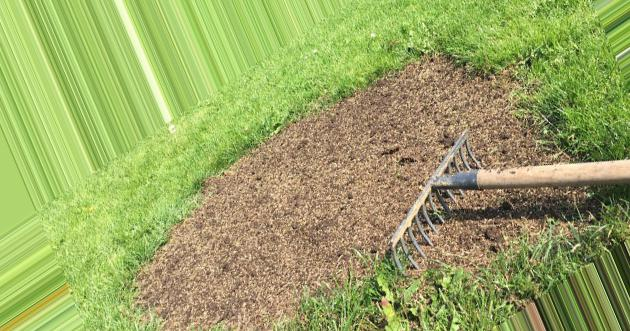patch: (256, 179, 364, 231), (188, 242, 259, 303), (359, 99, 454, 135), (438, 84, 513, 128), (288, 237, 341, 294), (269, 133, 362, 164), (499, 162, 563, 193), (465, 214, 523, 248), (204, 197, 231, 226), (379, 196, 404, 219), (393, 164, 417, 183)
